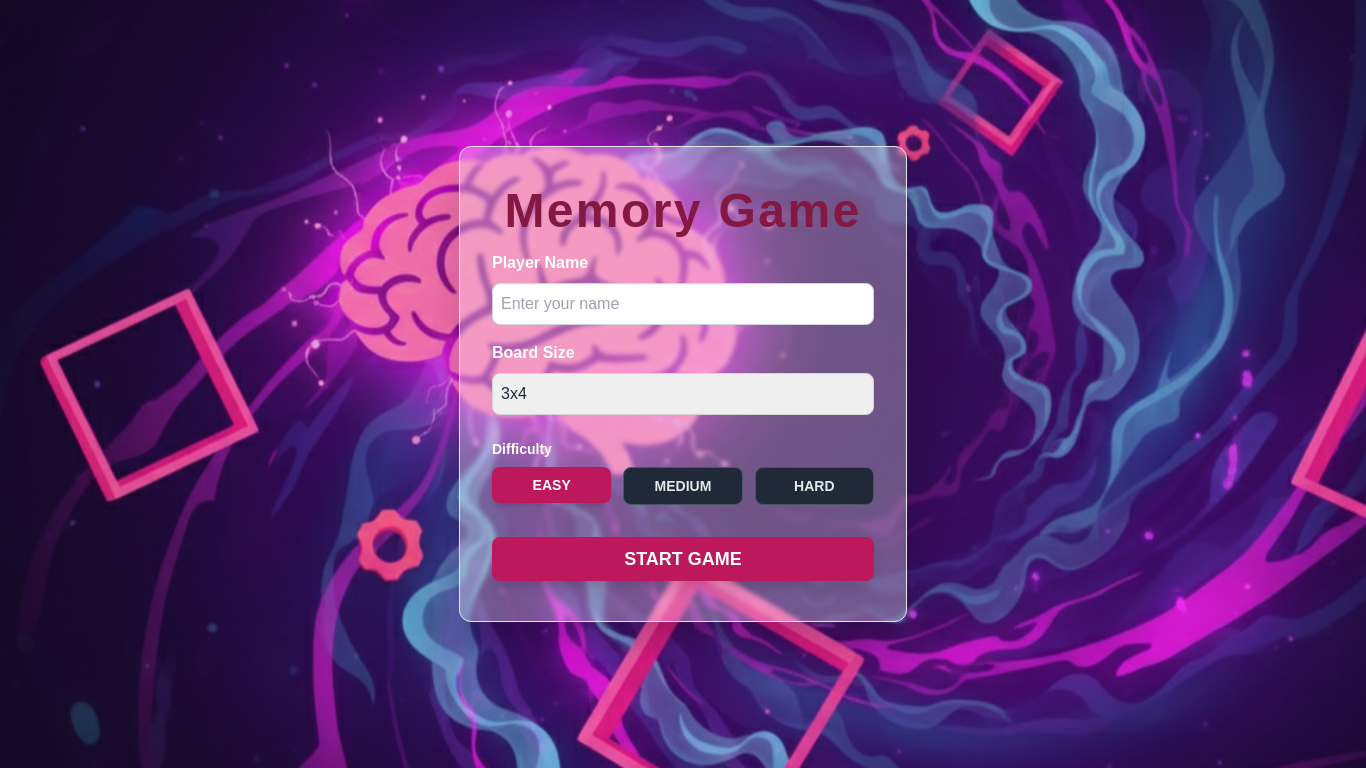
Test: StartPage Component › clears error message and red border when name input is changed after error is shown
Click the button with test id "start-button" at (683,559), box 492,537 -> 874,581
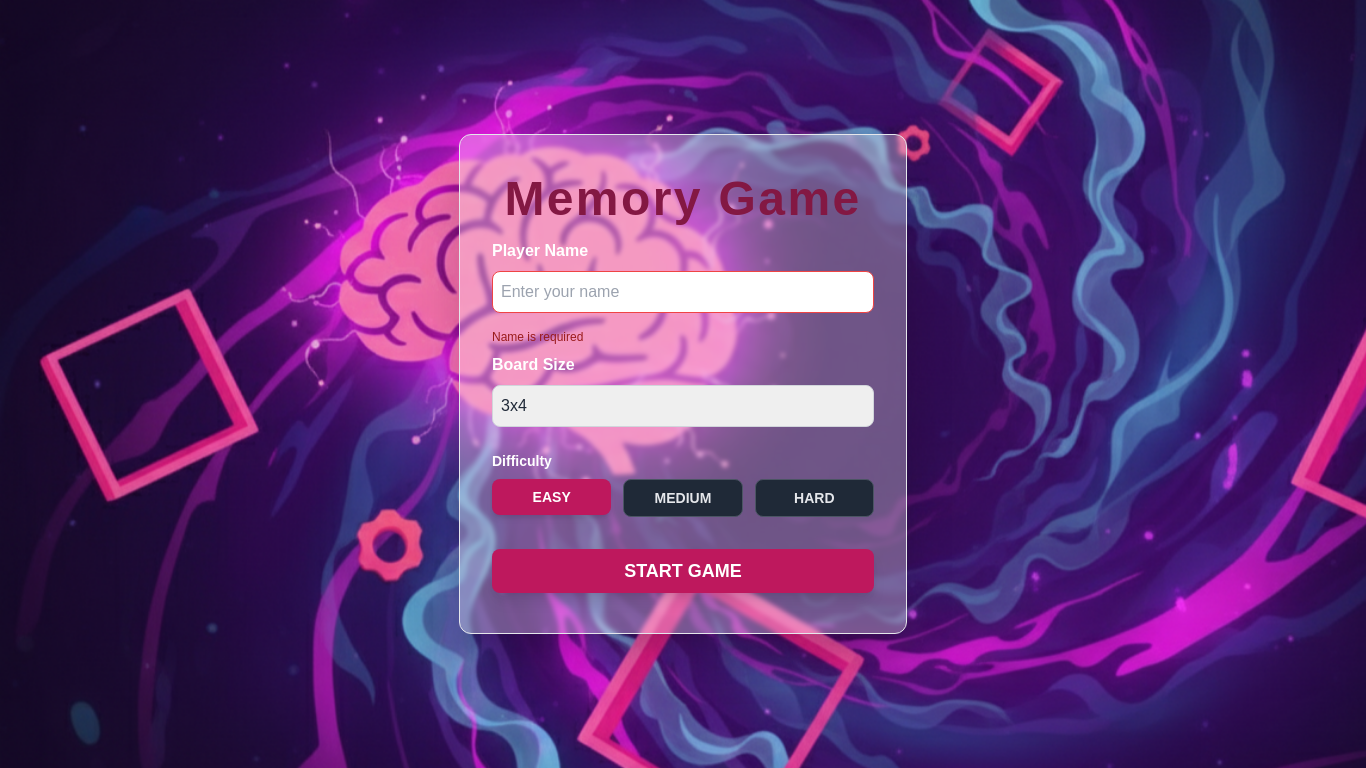
Now the message "Name is required" is shown, box 492,330 -> 583,344
Type "A" into the field with placeholder "Enter your name" at (683,292), box 492,271 -> 874,313
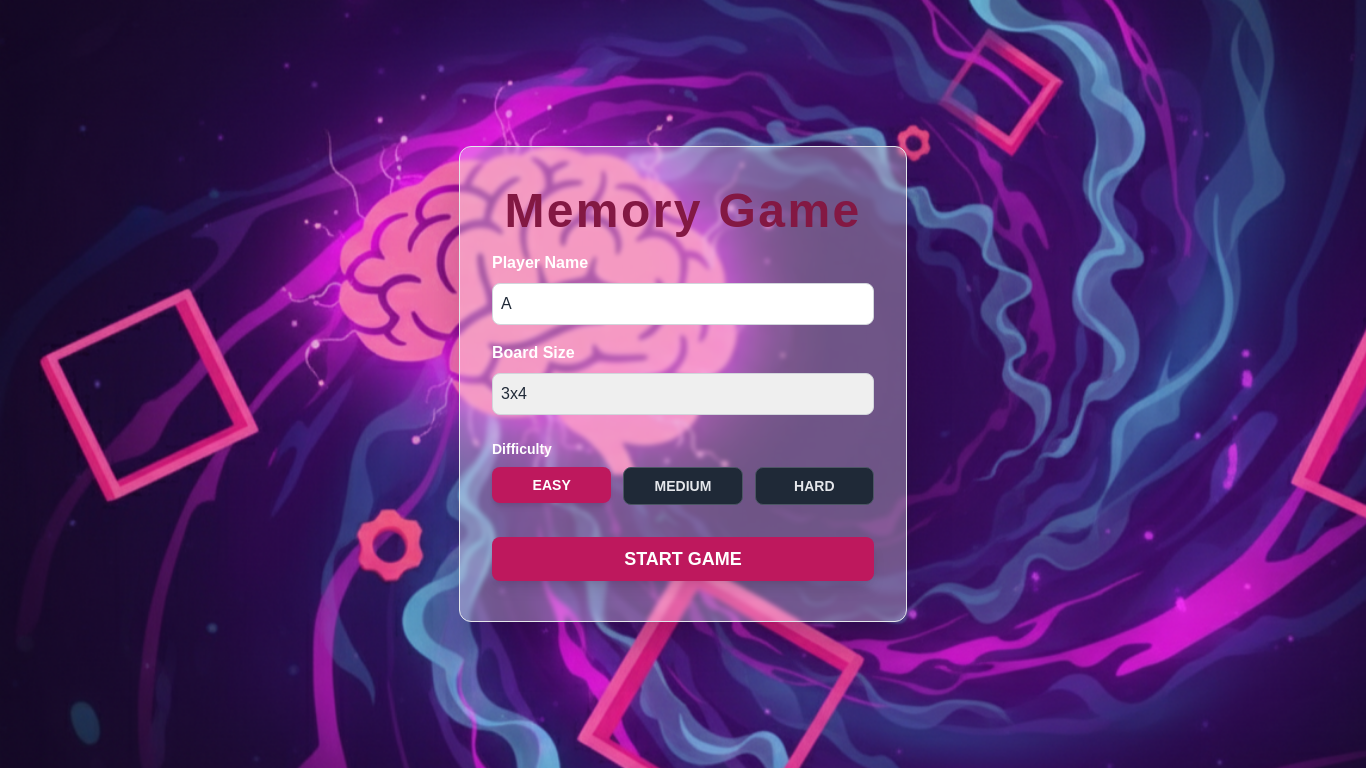
Now the message "Name is required" is gone
